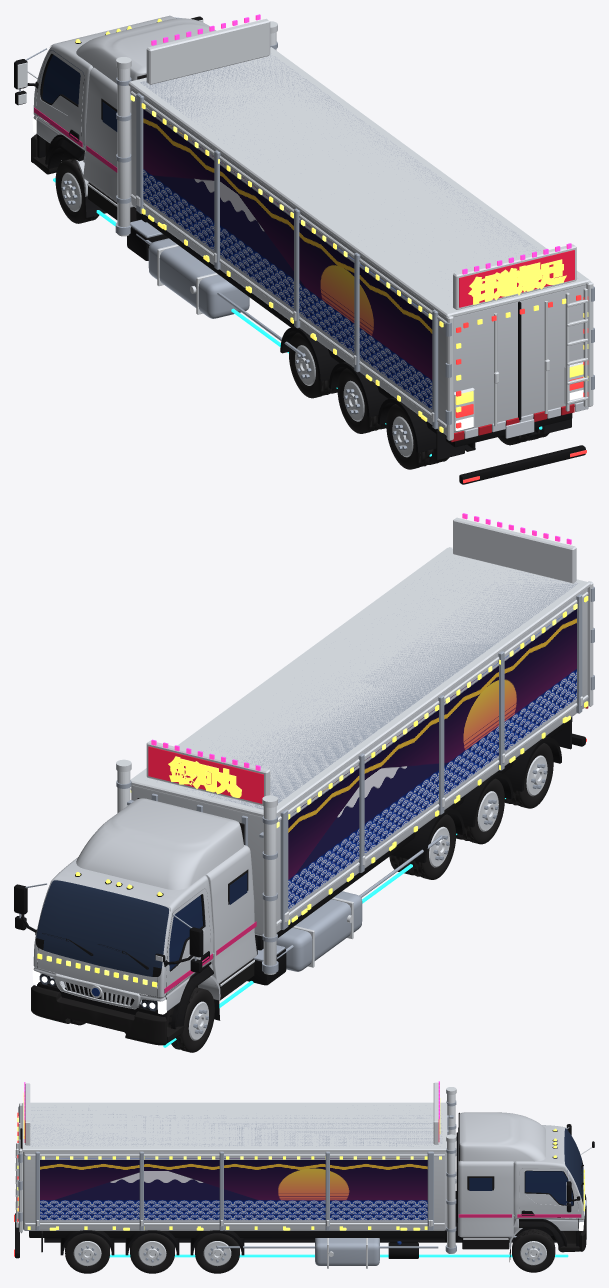
The model's file is dekotora_truck_longo_chata.glb.
The picture shows the model from 3 angles, top to bottom: view 1: azimuth 30°, elevation 25°; view 2: azimuth 150°, elevation 25°; view 3: azimuth 270°, elevation 25°; orthographic projection. The views are drawn at different scales.
Parts seen in each view (by area): view 1: truck_chrome, truck_paint_white_panel, truck_mural, truck_steel, truck_plastic_black, truck_lamp_amber, wheel_r_L_1.5_1.06, truck_glass, wheel_f_L, wheel_r_L_3.0_1.06, wheel_r_L_4.5_1.06, truck_andon_panel (+5 smaller); view 2: truck_chrome, truck_paint_white_panel, truck_mural, truck_steel, truck_plastic_black, truck_glass_wind, truck_plastic_trim, truck_lamp_amber, truck_andon_panel, wheel_f_L, wheel_r_L_1.5_1.06, wheel_r_L_3.0_1.06 (+2 smaller); view 3: truck_chrome, truck_mural, truck_paint_white_panel, truck_steel, truck_plastic_black, wheel_f_R, wheel_r_R_1.5_1.06, wheel_r_R_3.0_1.06, wheel_r_R_4.5_1.06, truck_glass, truck_plastic_trim, truck_lamp_cyan (+3 smaller).
Boxes of the visible parts, <box> form: truck_chrome: <box>17,18,593,440</box>; truck_paint_white_panel: <box>33,15,586,435</box>; truck_mural: <box>143,107,432,412</box>; truck_steel: <box>19,17,594,429</box>; truck_plastic_black: <box>14,16,585,484</box>; truck_lamp_amber: <box>75,18,588,432</box>; wheel_r_L_1.5_1.06: <box>386,404,433,469</box>; truck_glass: <box>42,55,117,131</box>; wheel_f_L: <box>55,158,99,223</box>; wheel_r_L_3.0_1.06: <box>337,368,382,433</box>; wheel_r_L_4.5_1.06: <box>289,332,333,398</box>; truck_andon_panel: <box>459,250,574,307</box>; truck_chrome: <box>26,517,593,1009</box>; truck_paint_white_panel: <box>33,588,587,1011</box>; truck_mural: <box>288,608,576,911</box>; truck_steel: <box>19,563,594,973</box>; truck_plastic_black: <box>14,717,585,1029</box>; truck_glass_wind: <box>36,880,168,976</box>; truck_plastic_trim: <box>31,798,254,1045</box>; truck_lamp_amber: <box>37,596,588,987</box>; truck_andon_panel: <box>148,746,263,803</box>; wheel_f_L: <box>171,987,214,1052</box>; wheel_r_L_1.5_1.06: <box>508,743,553,808</box>; wheel_r_L_3.0_1.06: <box>459,778,504,844</box>; truck_chrome: <box>15,1082,594,1268</box>; truck_mural: <box>40,1158,427,1221</box>; truck_paint_white_panel: <box>23,1112,583,1248</box>; truck_steel: <box>18,1100,570,1265</box>; truck_plastic_black: <box>15,1124,594,1258</box>; wheel_f_R: <box>512,1229,555,1272</box>; wheel_r_R_1.5_1.06: <box>65,1233,109,1273</box>; wheel_r_R_3.0_1.06: <box>130,1233,174,1273</box>; wheel_r_R_4.5_1.06: <box>195,1233,239,1273</box>; truck_glass: <box>469,1171,573,1205</box>; truck_plastic_trim: <box>458,1112,586,1252</box>; truck_lamp_cyan: <box>109,1254,568,1257</box>.
Size of the model in its own units: 3.33 by 3.91 by 13.42.
Materials: 22 (5 with a texture image).
